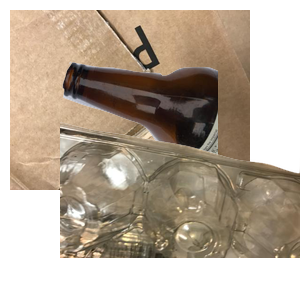cardboard: (10, 10, 250, 190)
glass: (60, 59, 300, 217)
plastic: (60, 120, 300, 300)
trash: (88, 177, 251, 300)
